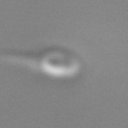normal: (1, 49, 39, 74)
